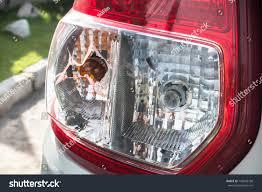Taillight-Damage: (40, 10, 225, 170)
